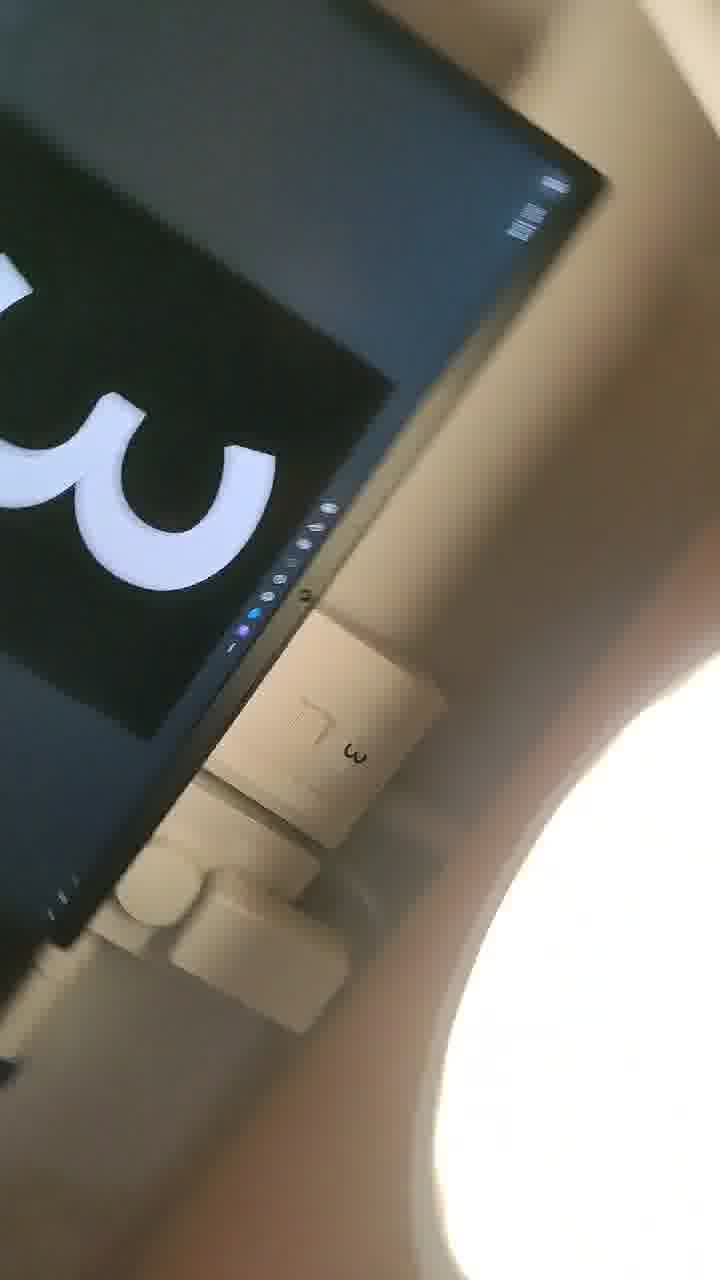three: (1, 178, 315, 659)
